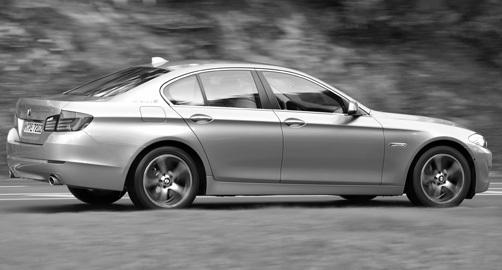car: (5, 56, 495, 210)
